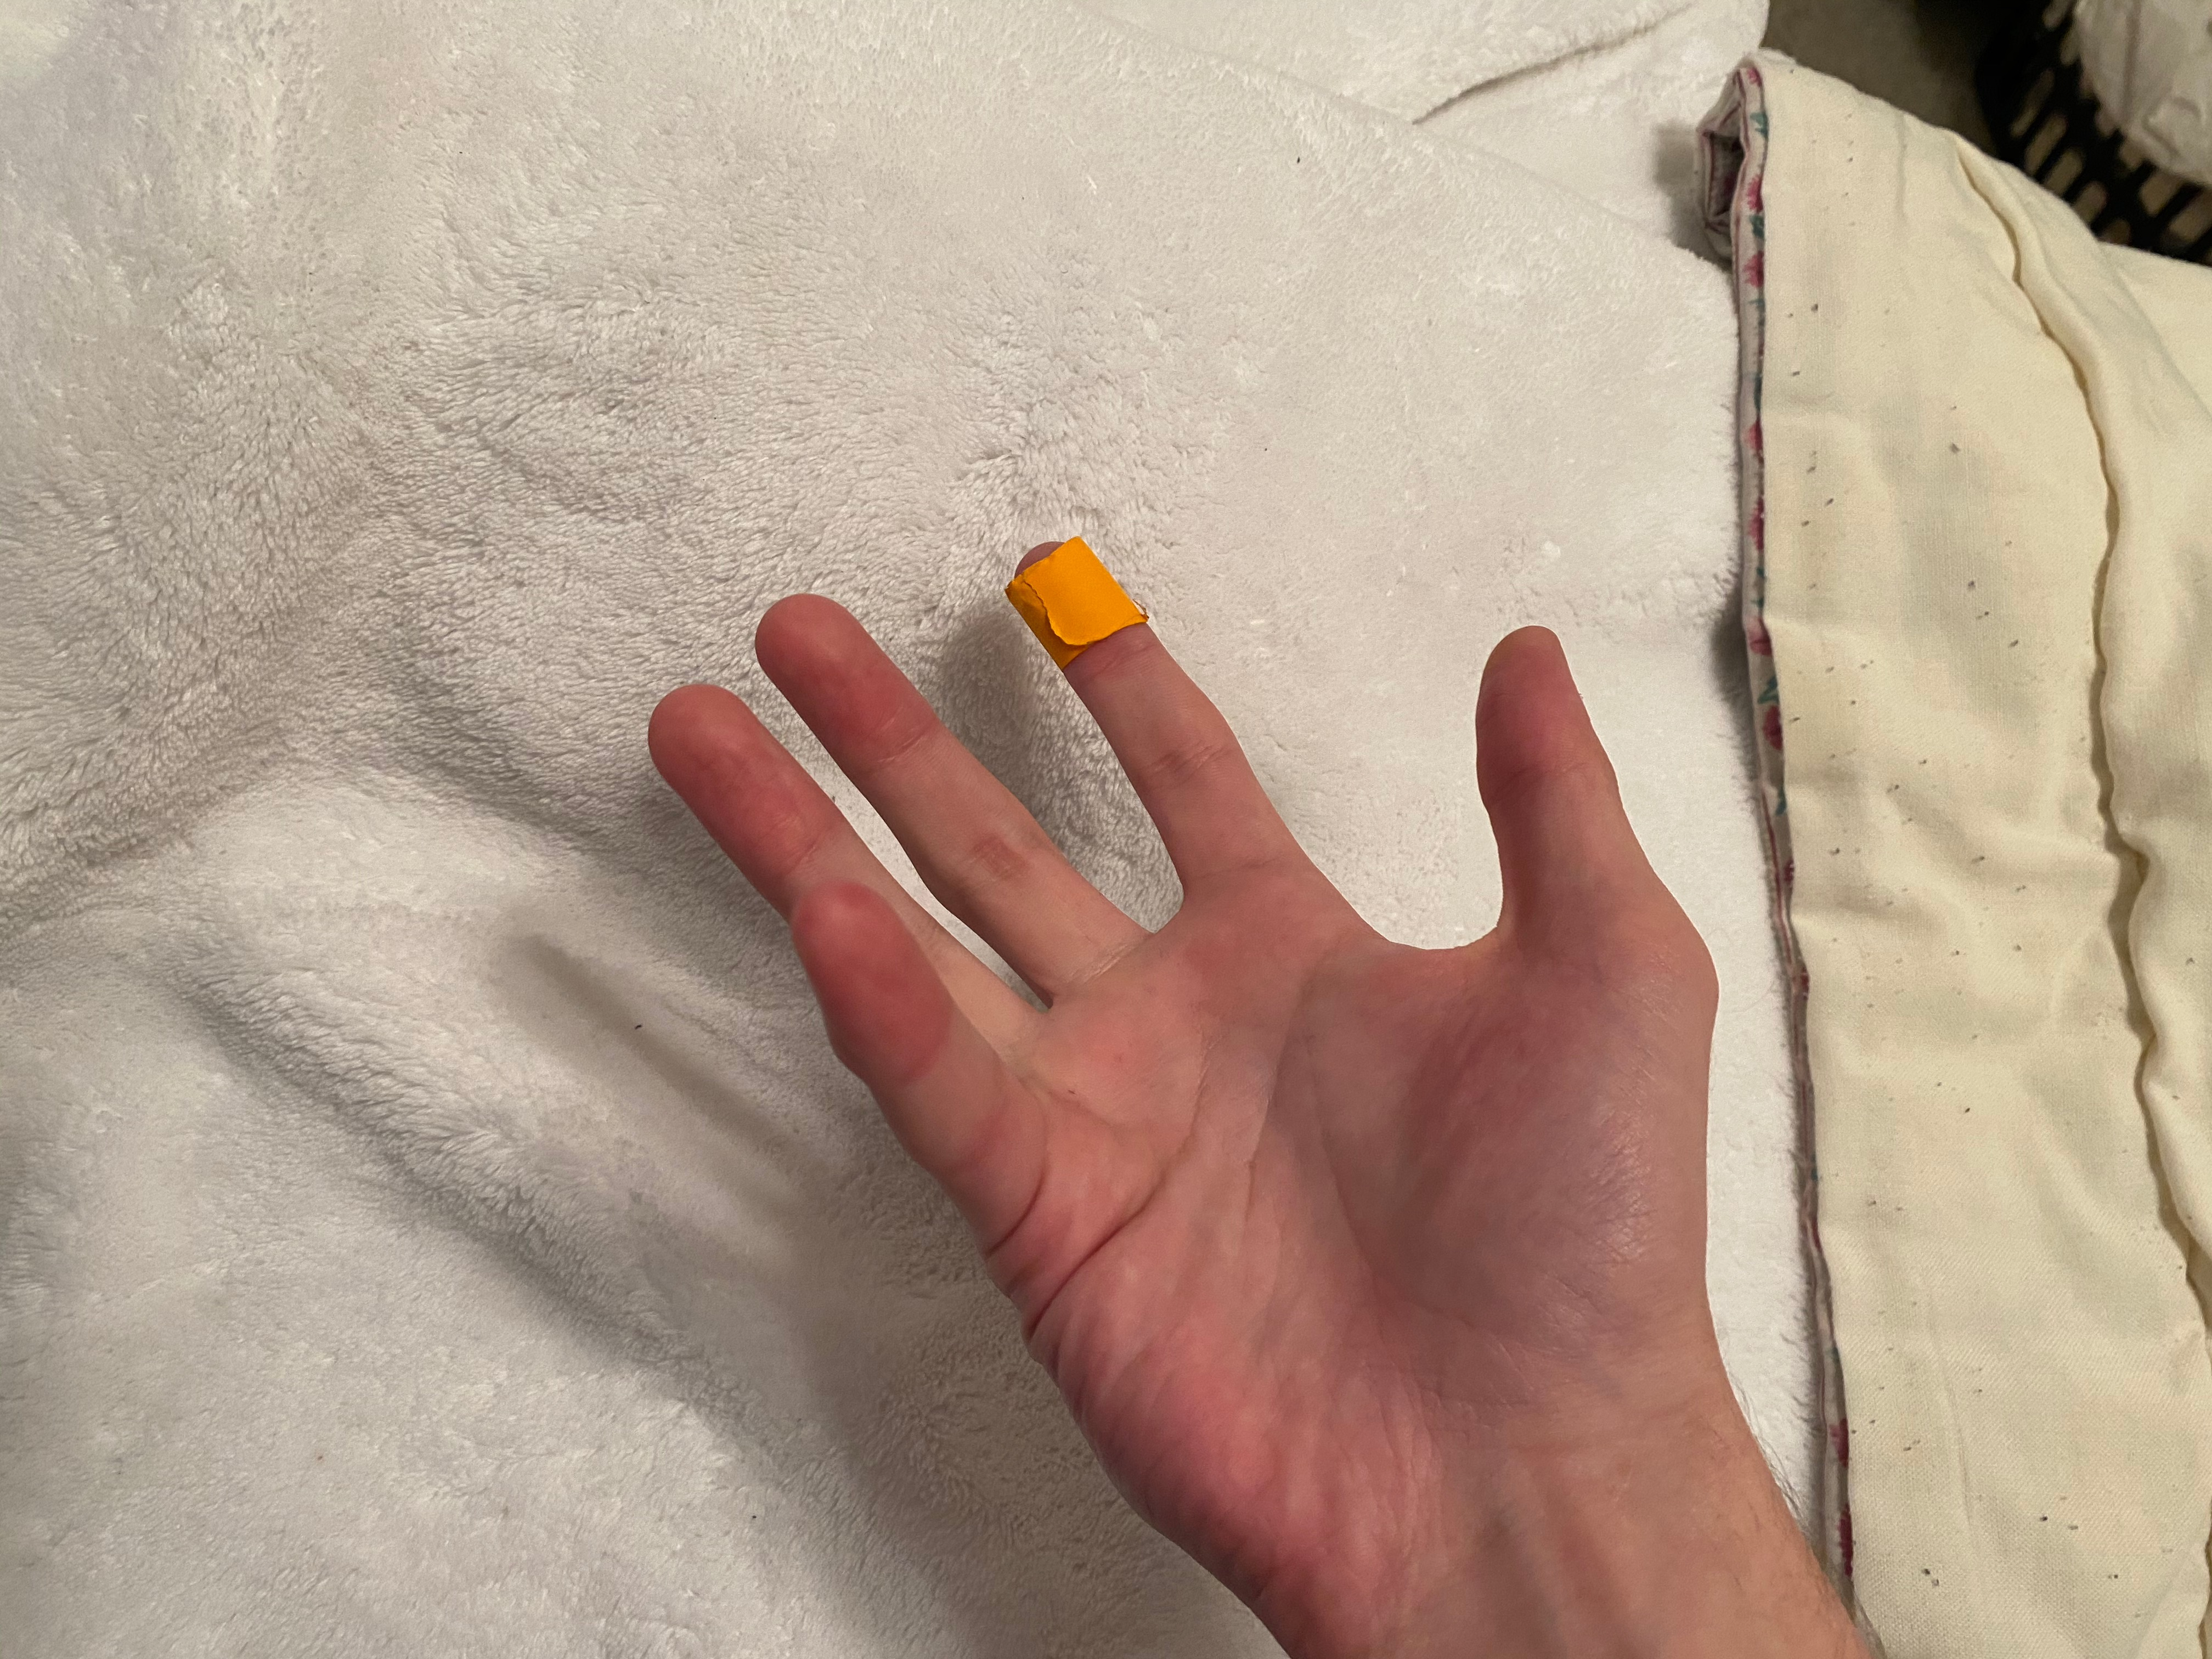fingertip: (977, 528, 1148, 674)
